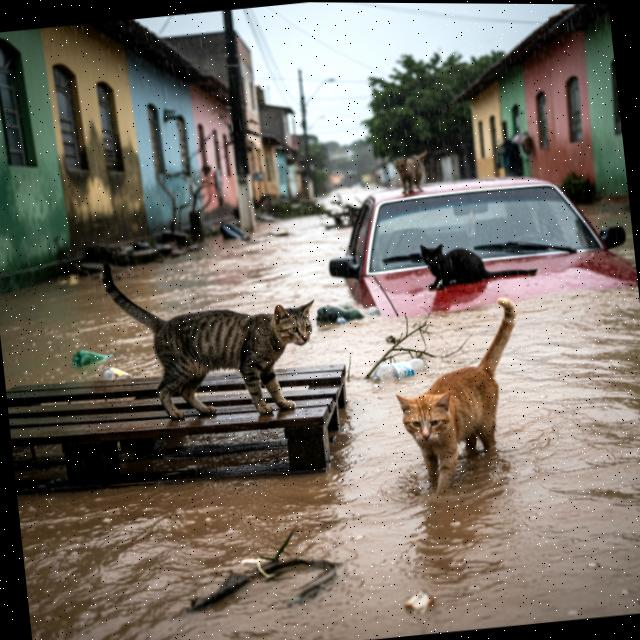cat: (90, 235, 324, 433), (380, 291, 536, 506), (412, 222, 540, 298), (388, 147, 437, 198)
